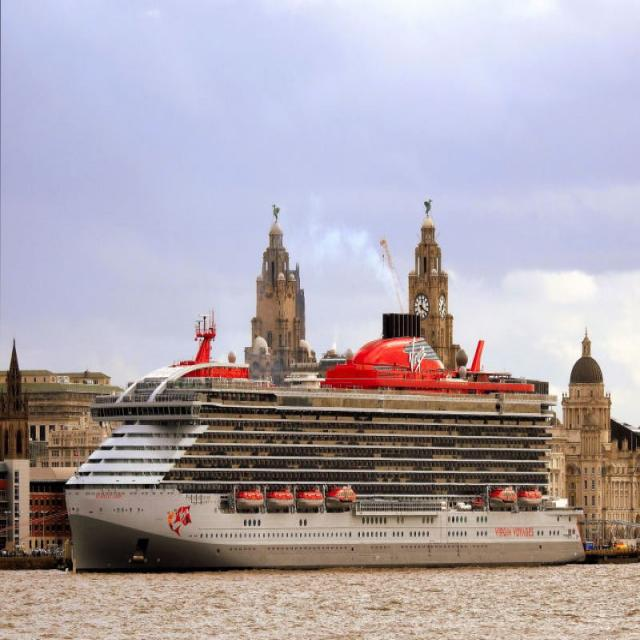cruises: (63, 315, 595, 578)
